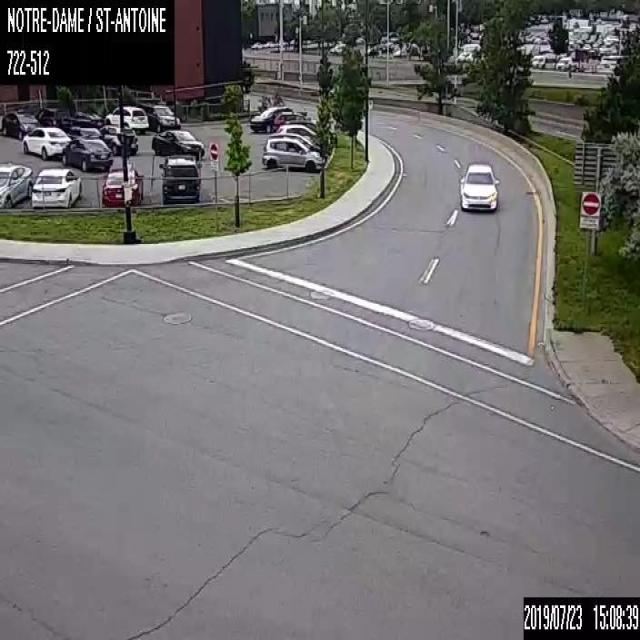vehicle: (158, 154, 202, 204), (262, 136, 321, 172), (31, 167, 82, 206), (458, 162, 499, 210), (100, 167, 144, 207), (22, 125, 71, 159), (152, 128, 204, 160), (0, 160, 33, 209), (62, 138, 112, 169), (250, 105, 306, 130), (105, 104, 148, 132), (98, 124, 138, 154), (1, 110, 42, 138), (34, 106, 70, 134), (146, 104, 180, 132), (270, 132, 319, 151), (274, 110, 306, 133), (69, 109, 103, 127), (276, 124, 316, 138), (67, 125, 102, 140), (285, 118, 317, 133)
